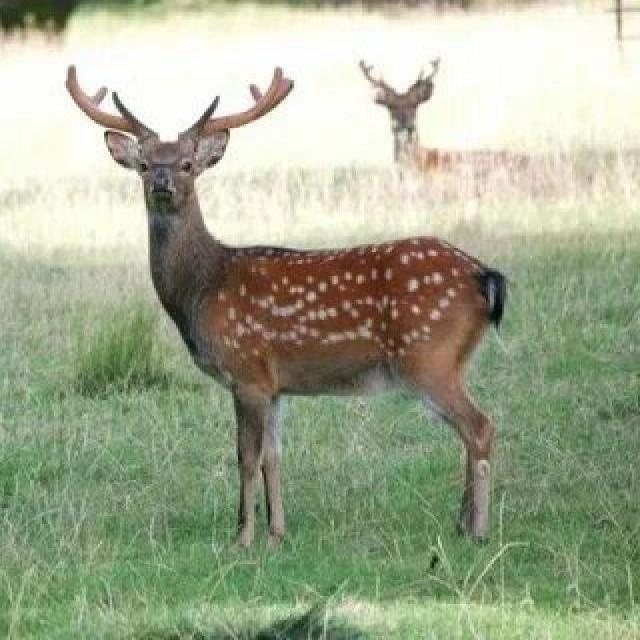deer: (80, 69, 538, 528)
